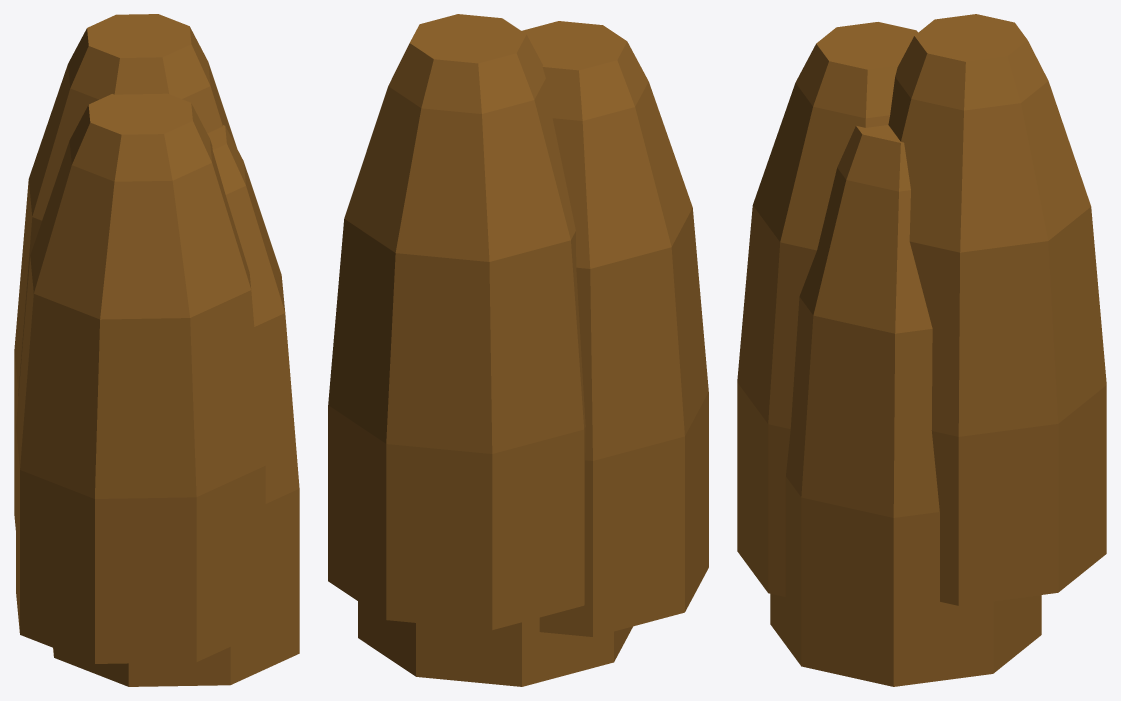
Rendered from 3set_mountain.glb.
3 renders of one model, left to right at view 1: azimuth 30°, elevation 25°; view 2: azimuth 150°, elevation 25°; view 3: azimuth 270°, elevation 25°, orthographic. The views are drawn at different scales.
Visible parts, largest first — view 1: 3sandmountains; view 2: 3sandmountains; view 3: 3sandmountains.
Boxes of the visible parts, x1,y1,x2,y2 form: 3sandmountains: (14,14,299,686); 3sandmountains: (328,14,708,686); 3sandmountains: (737,14,1106,686).
Bounding box in the file's own units: 7.67 × 15.1 × 8.57.
